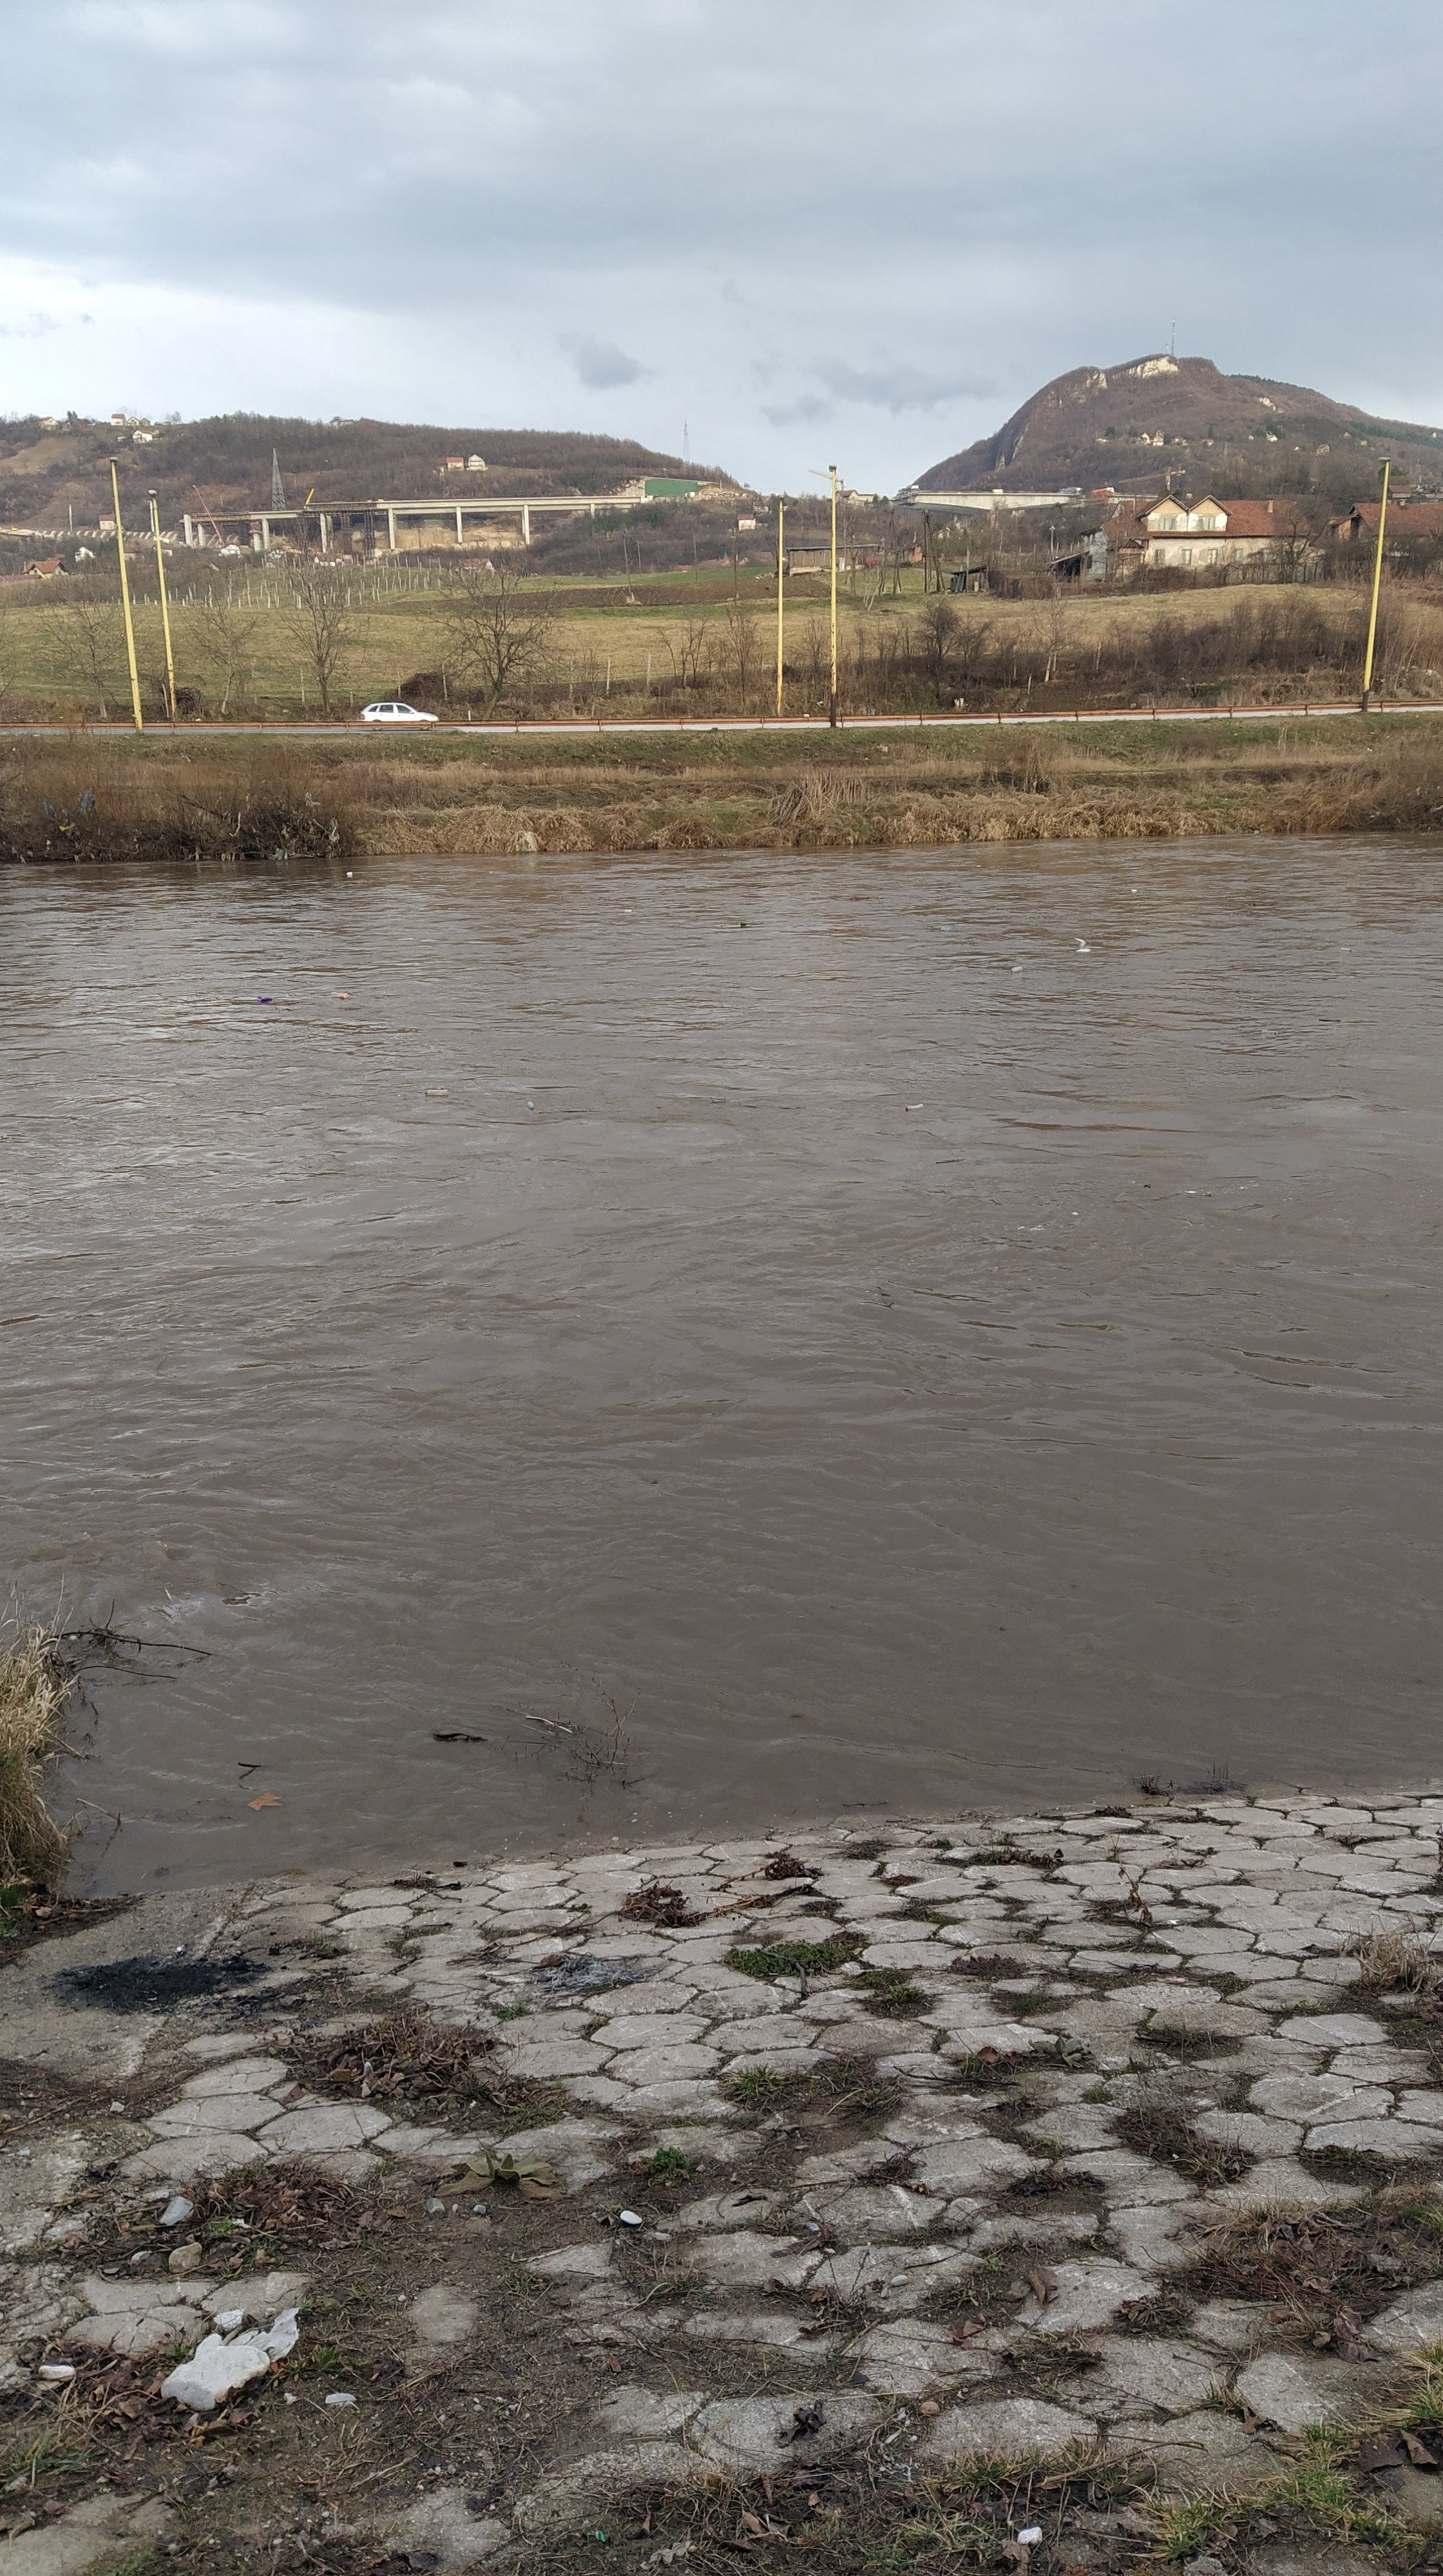Plastic Bottle: (907, 1102, 922, 1111), (331, 991, 351, 998), (423, 1090, 448, 1095), (257, 996, 273, 1001), (1009, 966, 1022, 971), (940, 925, 951, 931), (528, 1100, 533, 1109), (1340, 947, 1349, 952), (345, 872, 352, 876), (625, 909, 632, 911), (740, 924, 744, 925)
